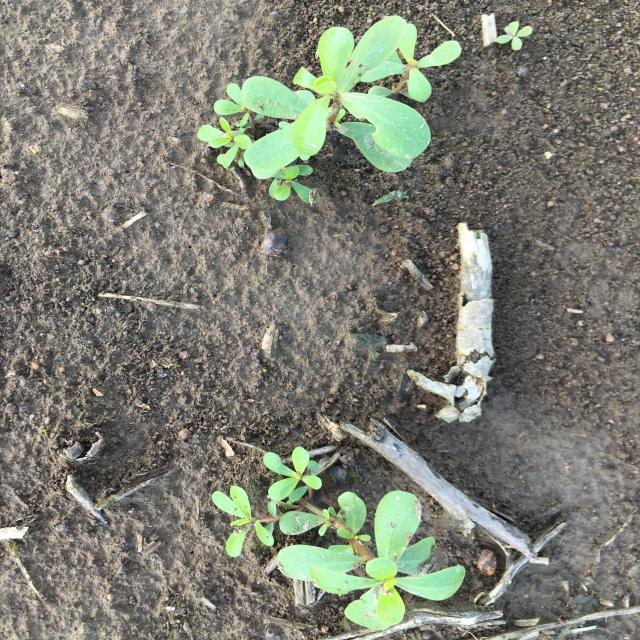Purslane: (197, 15, 460, 204), (212, 447, 465, 630), (497, 22, 532, 50)
